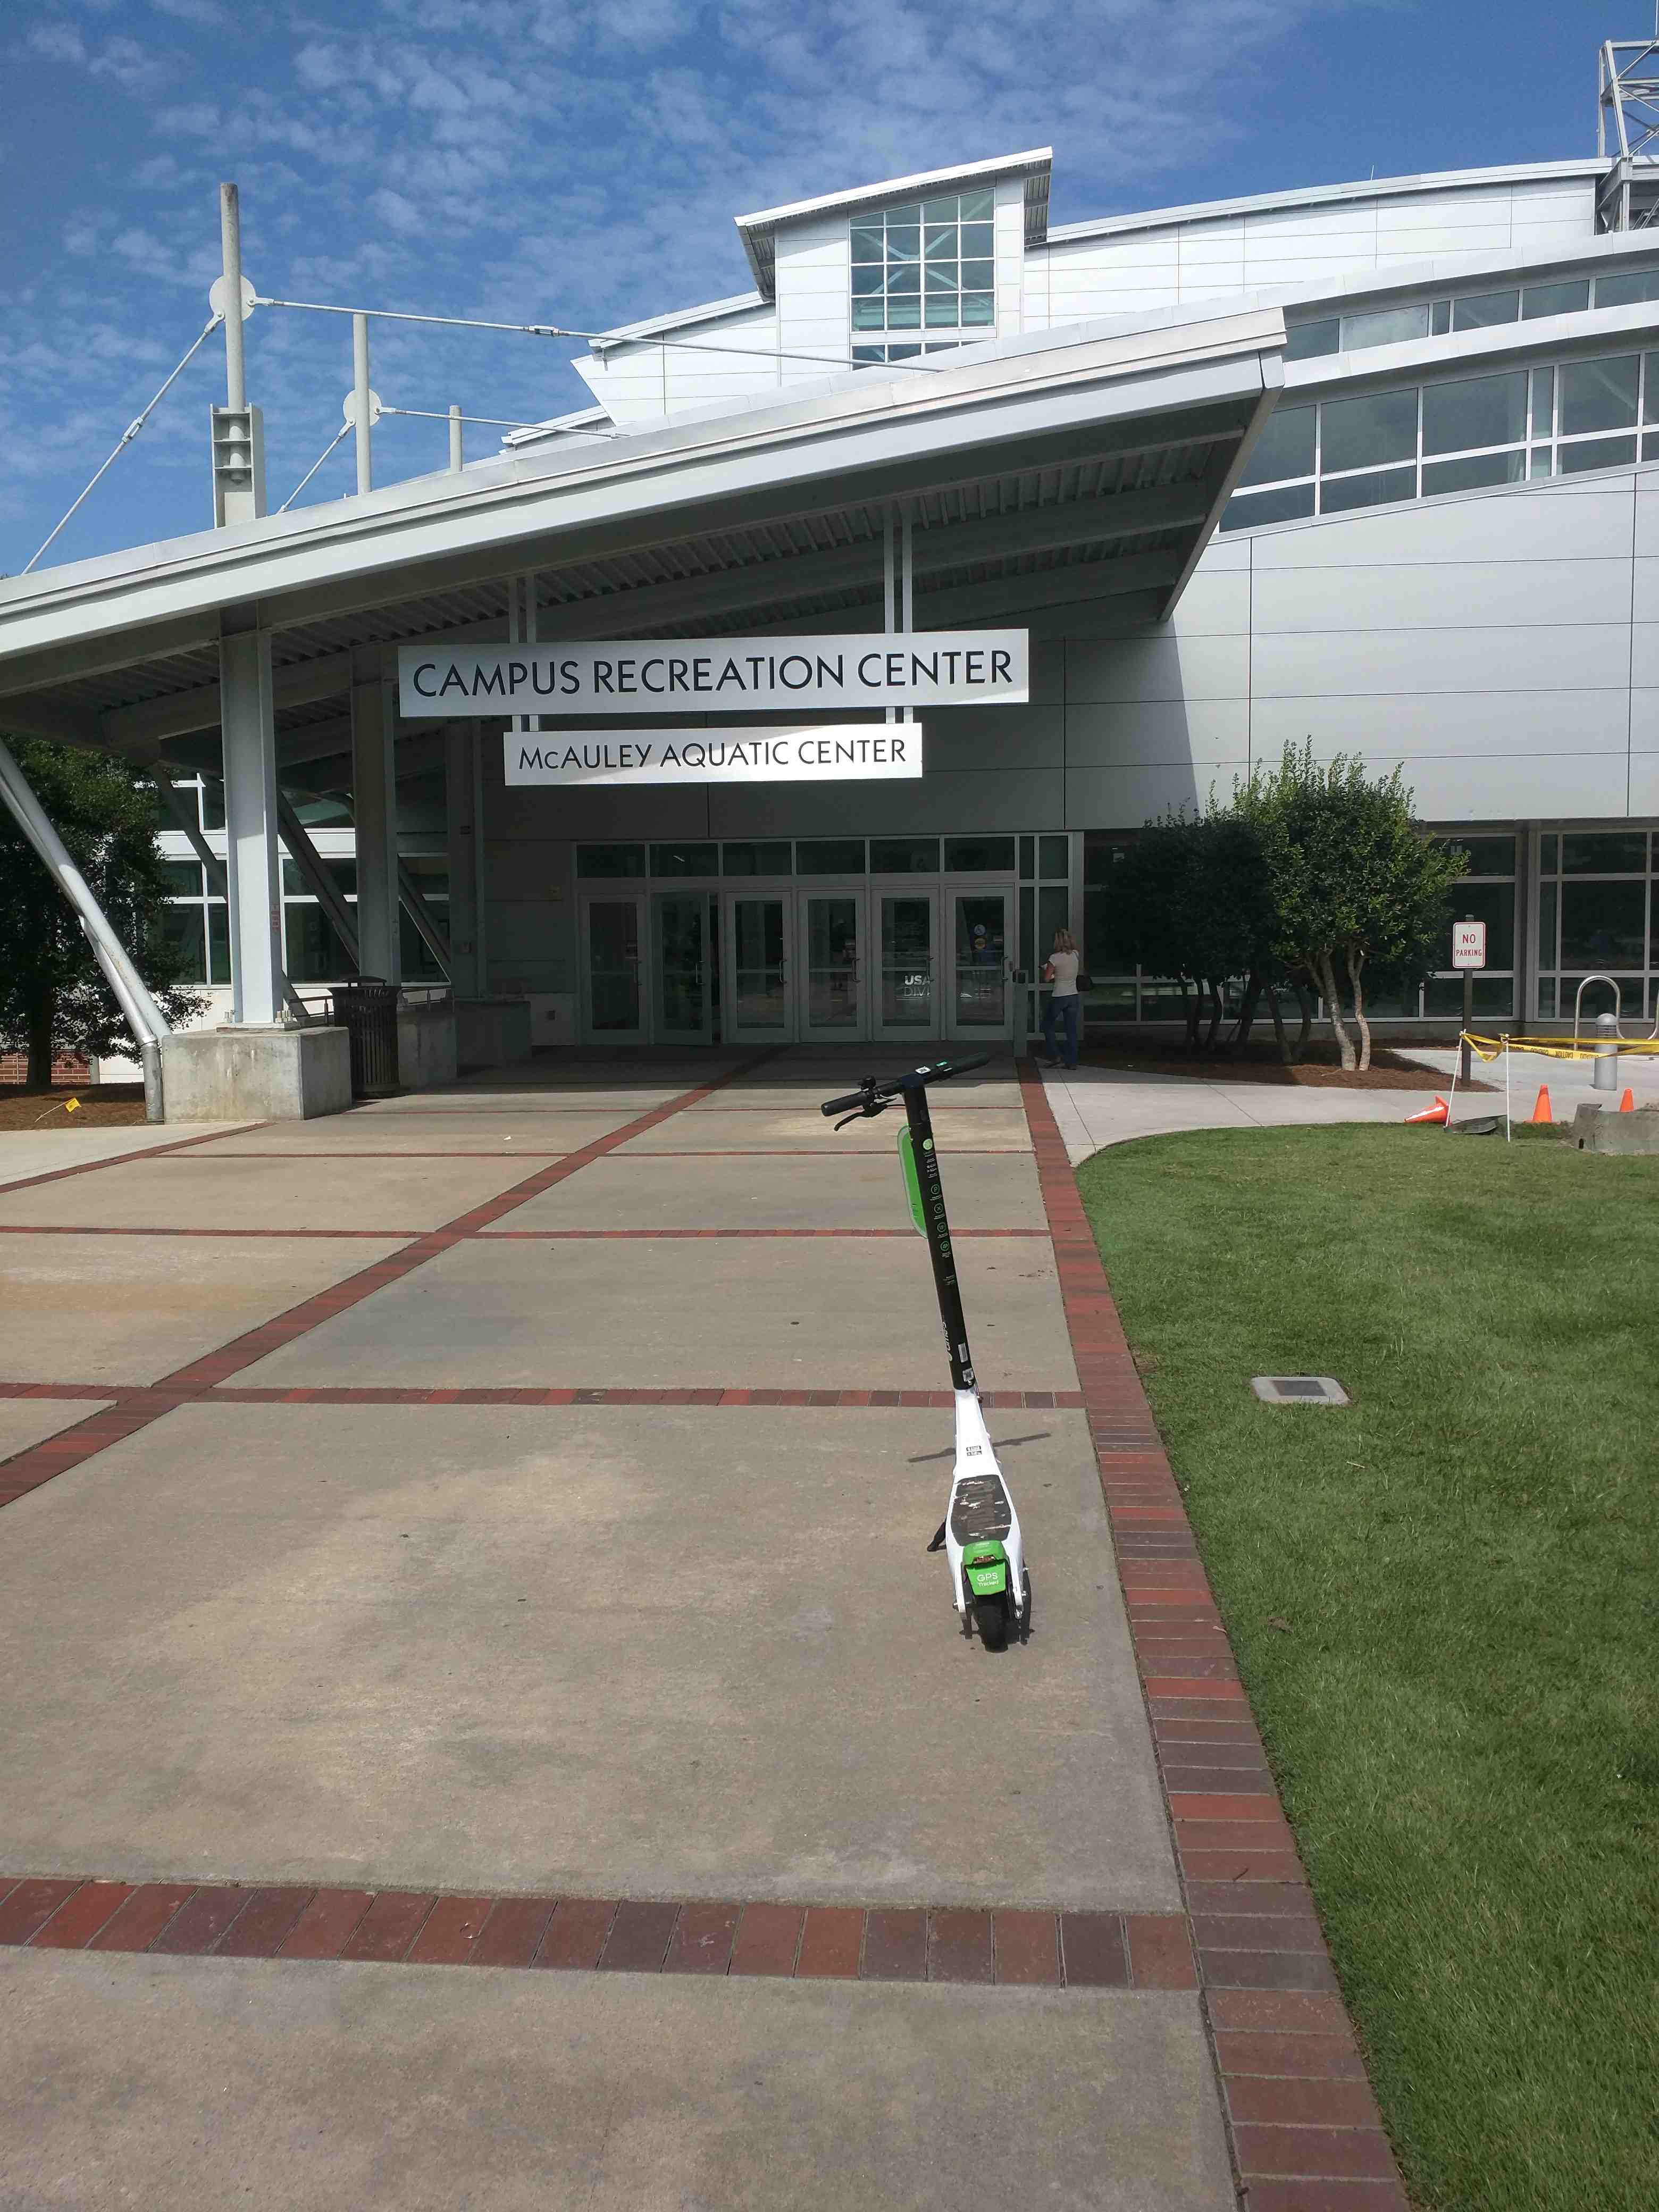scooter: (770, 1035, 1098, 1627)
